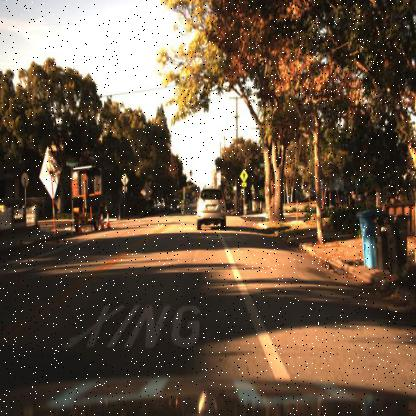car: (194, 186, 228, 235), (321, 186, 361, 215), (166, 195, 184, 218)
truck: (66, 162, 106, 237)
